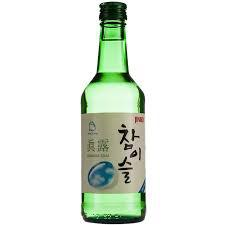soju: (79, 2, 150, 224)
